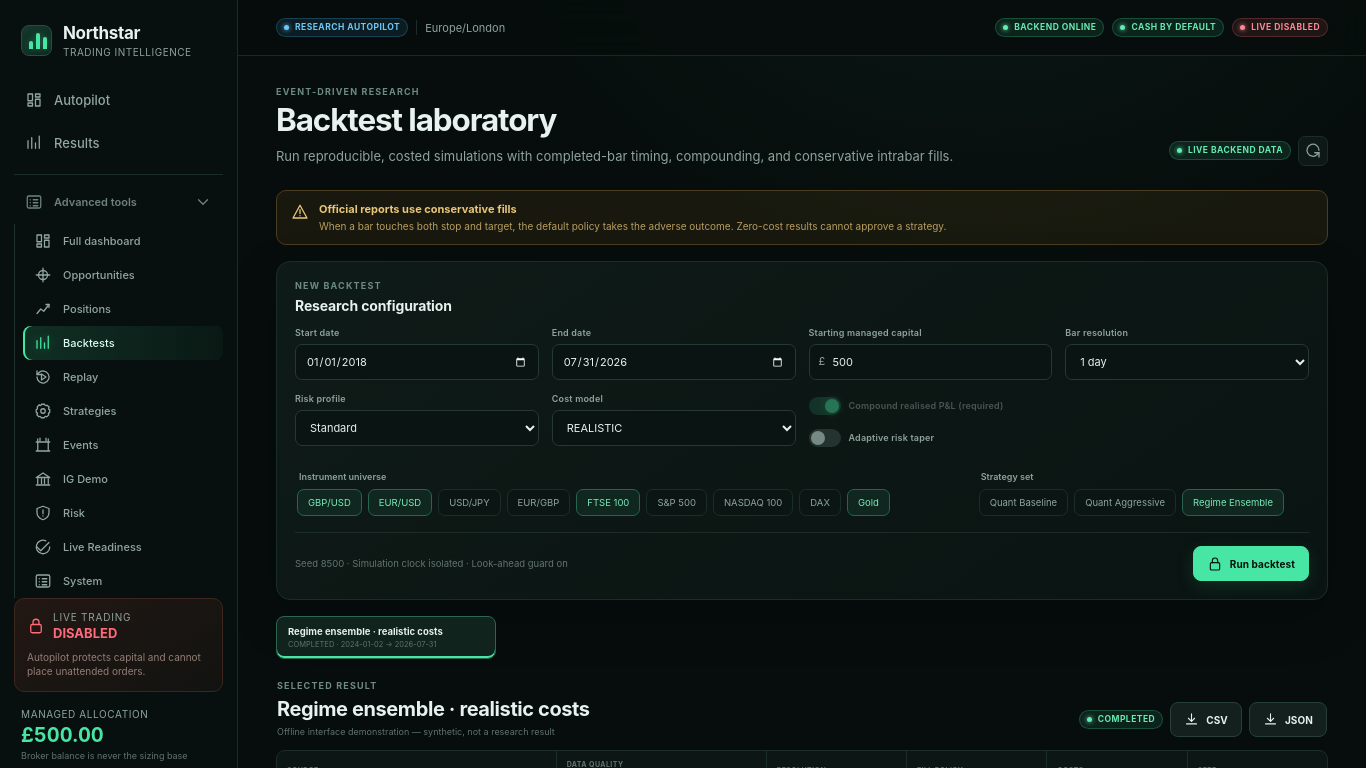
Test: trading dashboard › adopts the exact successful backtest response without a refresh
The width and height of the screenshot is (1366, 768).
Check: the text "Live backend data" is shown, box [1169,142,1291,160]
Check: the checkbox labelled "Compound realised P&L (required)" is disabled, box [808,397,1004,415]
Click the button "Run backtest" at {"x": 1251, "y": 564}, box [1193,546,1309,581]
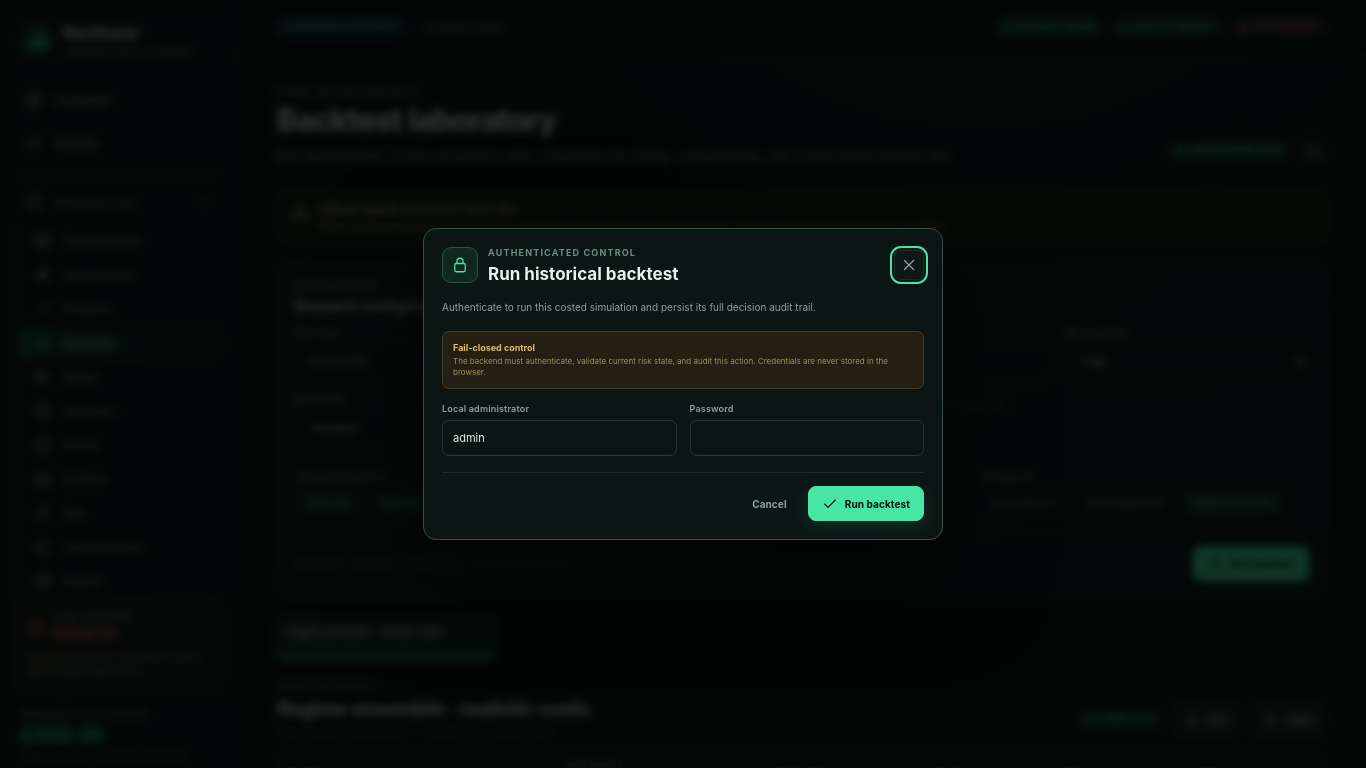
Type "correct" into the password field labelled "Password" at {"x": 807, "y": 438}, box [690,420,924,456]
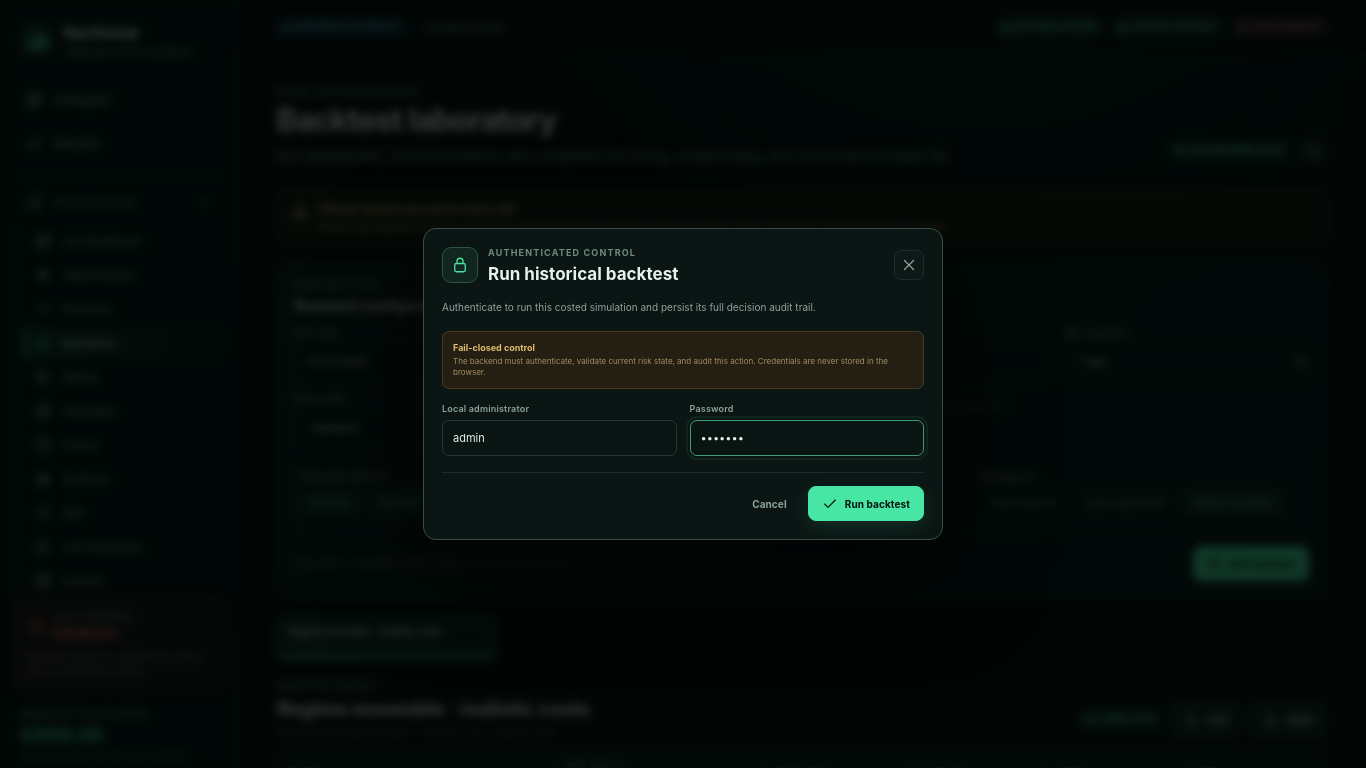
Click the button "Run backtest" below "Password" at {"x": 866, "y": 504}, box [808,486,924,521]
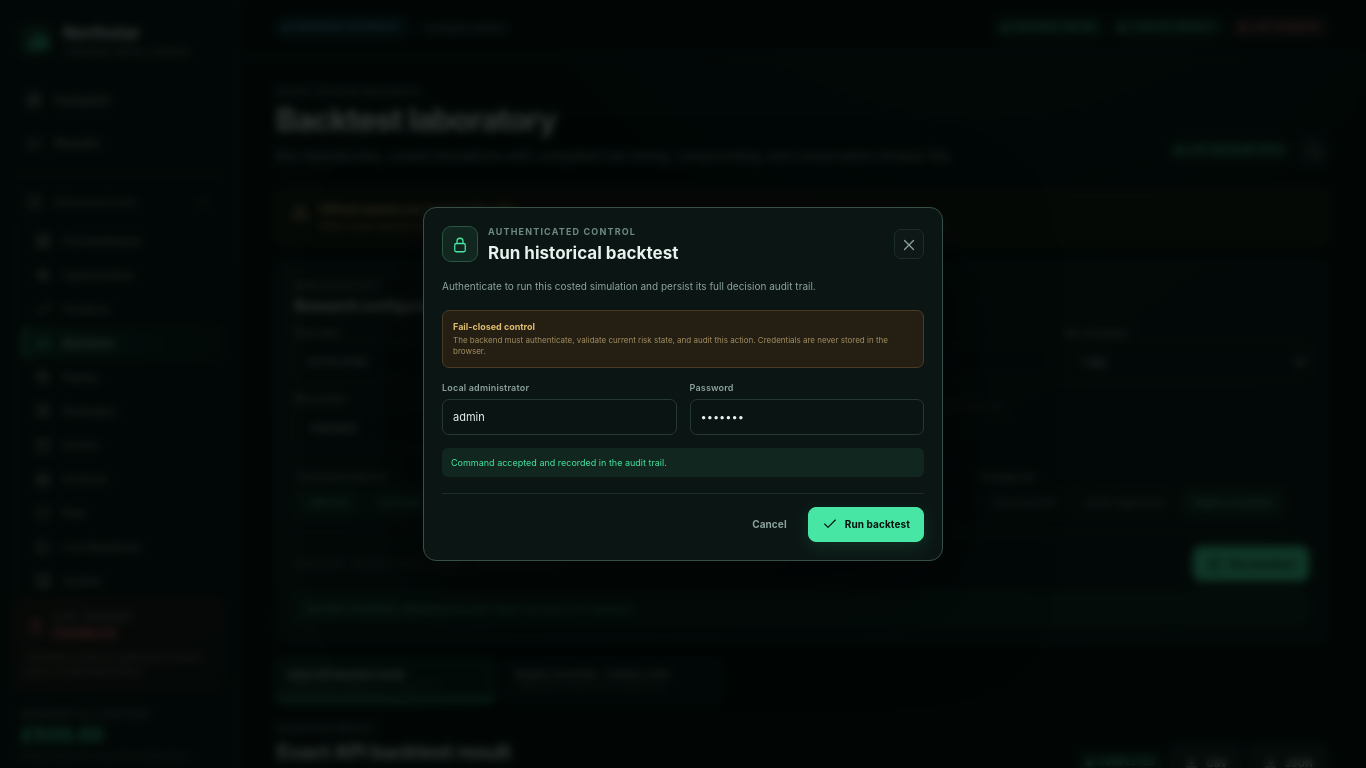
Check: the heading "Exact API backtest result" is shown, box [277,740,511,764]
Check: the message "Command accepted and recorded in the audit trail." is shown, box [442,448,924,477]
